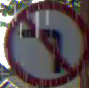Don't turn left: (4, 1, 88, 87)
